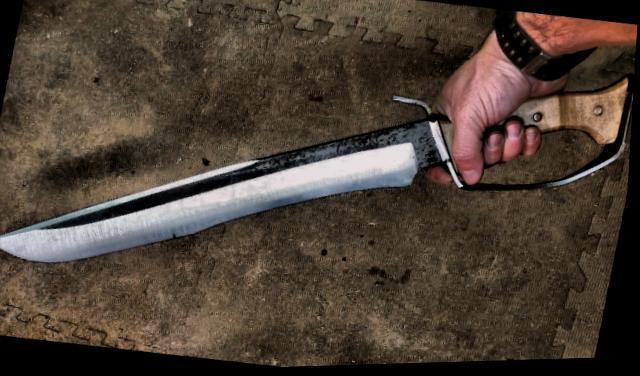knife: (0, 18, 503, 338)
